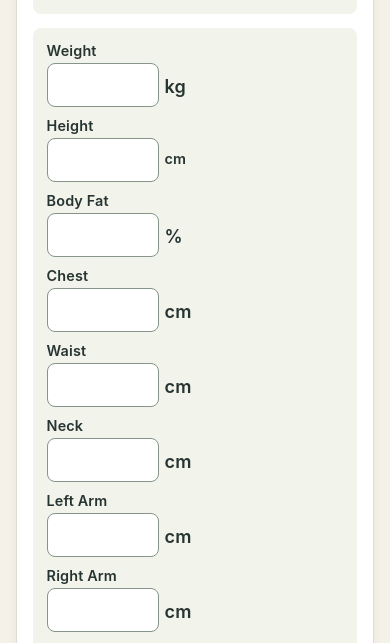
Test: supports body-fat-only and multiple-measurement entries
(page scrolled)
Type "27.5" into the number field labelled "Body Fat" at (103, 235), box [47, 213, 159, 257]
(page scrolled)
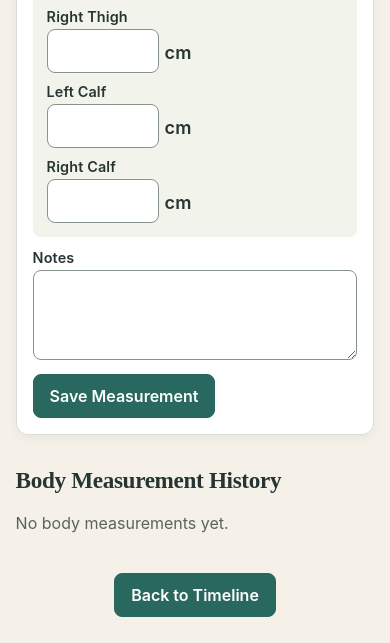
Click the button "Save Measurement" at (124, 396), box [33, 374, 215, 418]
(page scrolled)
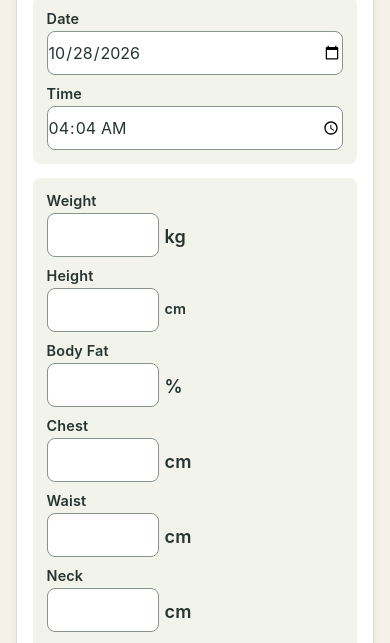
Type "80" into the number field labelled "Weight" at (103, 235), box [47, 213, 159, 257]
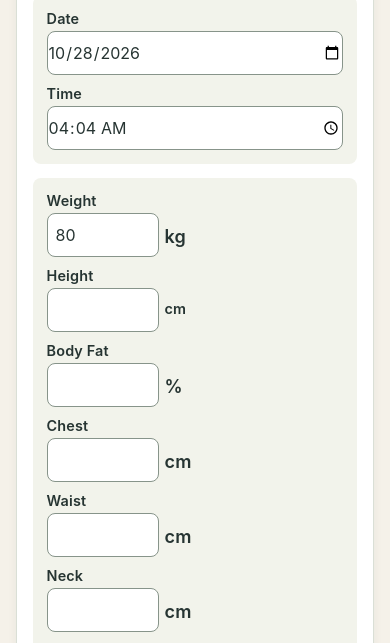
Type "100" into the number field labelled "Chest" at (103, 460), box [47, 438, 159, 482]
(page scrolled)
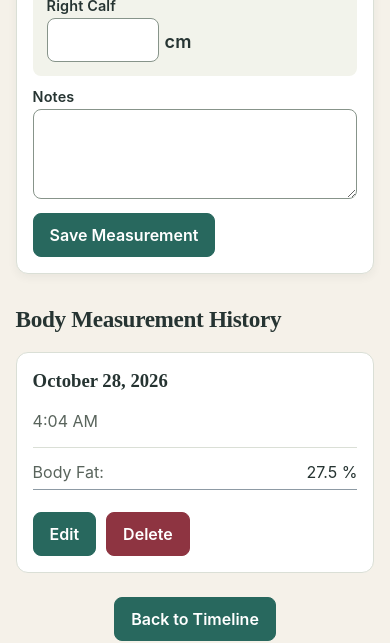
Click the button "Save Measurement" at (124, 235), box [33, 213, 215, 257]
(page scrolled)
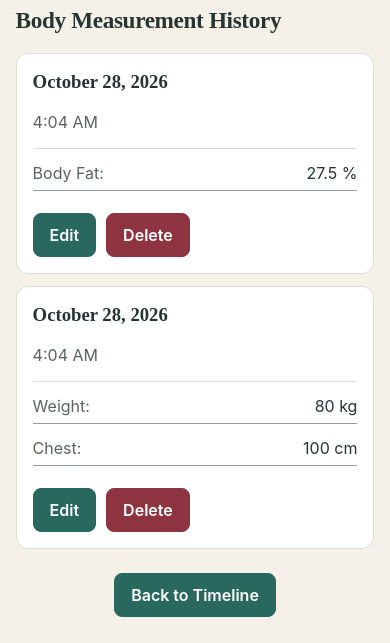
expect the text "80 kg" shows "100 cm": met, box [16, 286, 374, 549]
